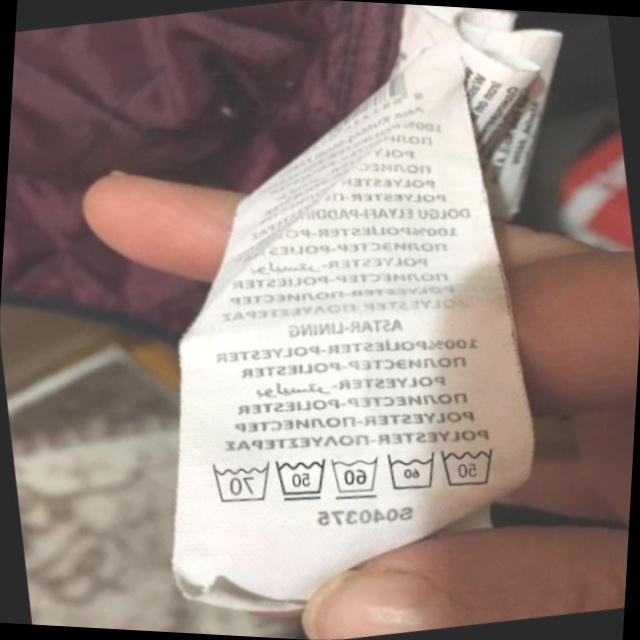50C: (428, 430, 508, 502), (263, 445, 337, 514)
60C: (318, 443, 389, 510), (375, 439, 445, 504)
70C: (198, 448, 278, 516)
